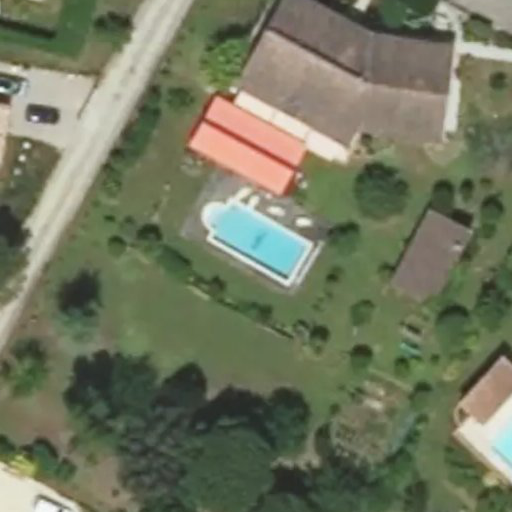pool: (191, 231, 311, 244)
